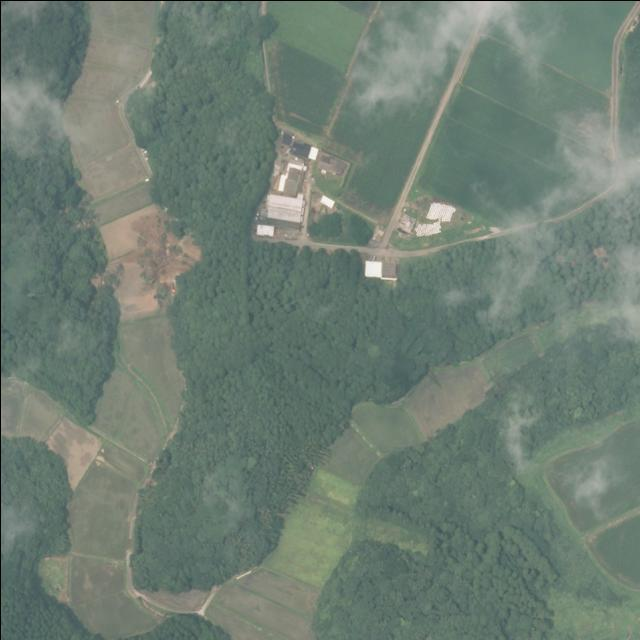landslide: (98, 203, 198, 321)
